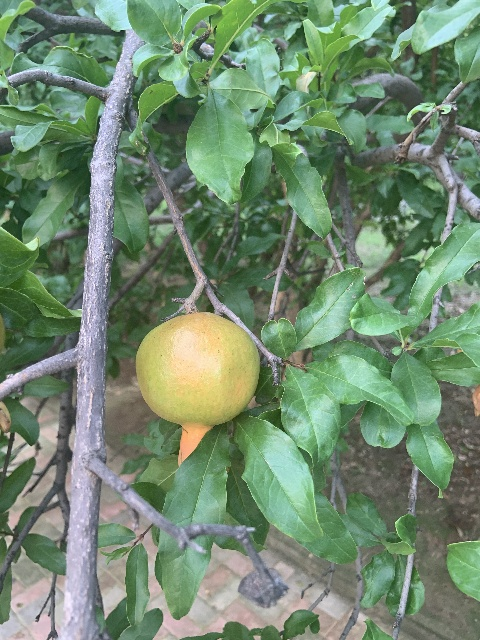mid-growth: (134, 312, 260, 465)
